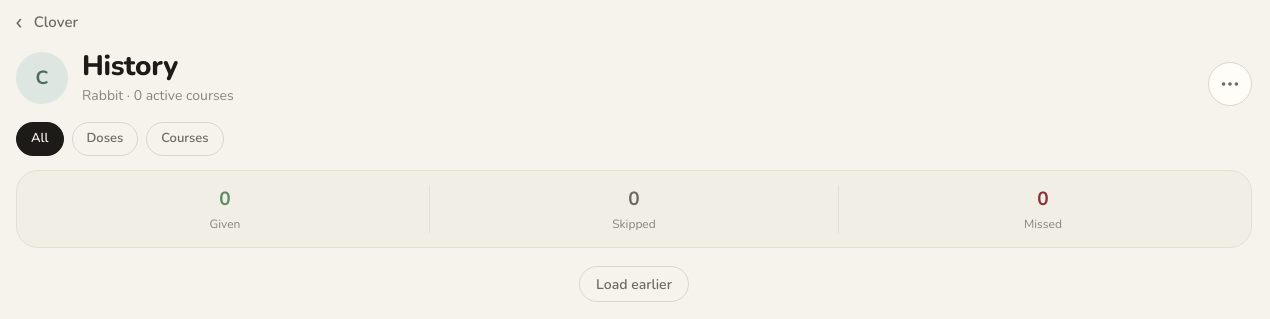
Test: HistoryView › keeps the portalled export menu inside a .ds-root token scope, so it is not painted with unresolved tokens
Expected: the heading "History" is shown, [82,47,178,85]
Click the button named "Export history" at [1230, 84], box [1208,62,1252,106]
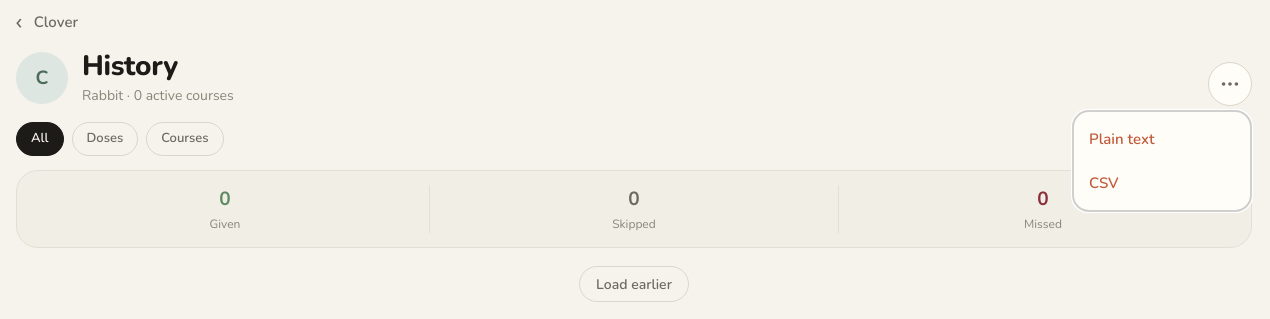
Expected: the menu is shown, [1072,110,1252,212]
